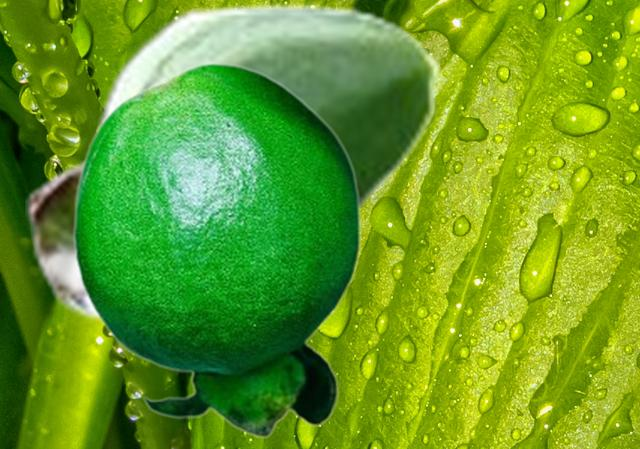guava: (25, 0, 442, 321), (71, 62, 361, 437)
